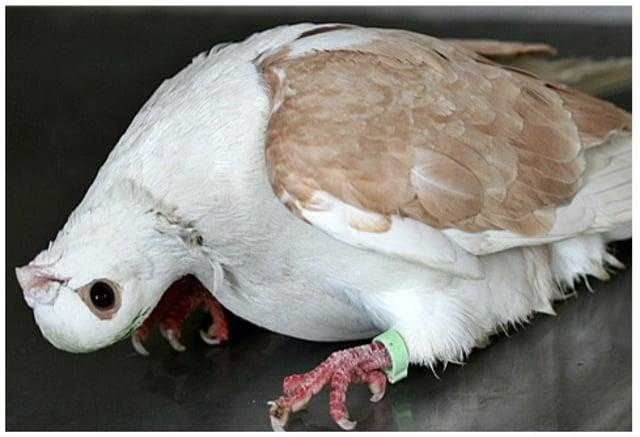AbNormal: (12, 28, 632, 430)
